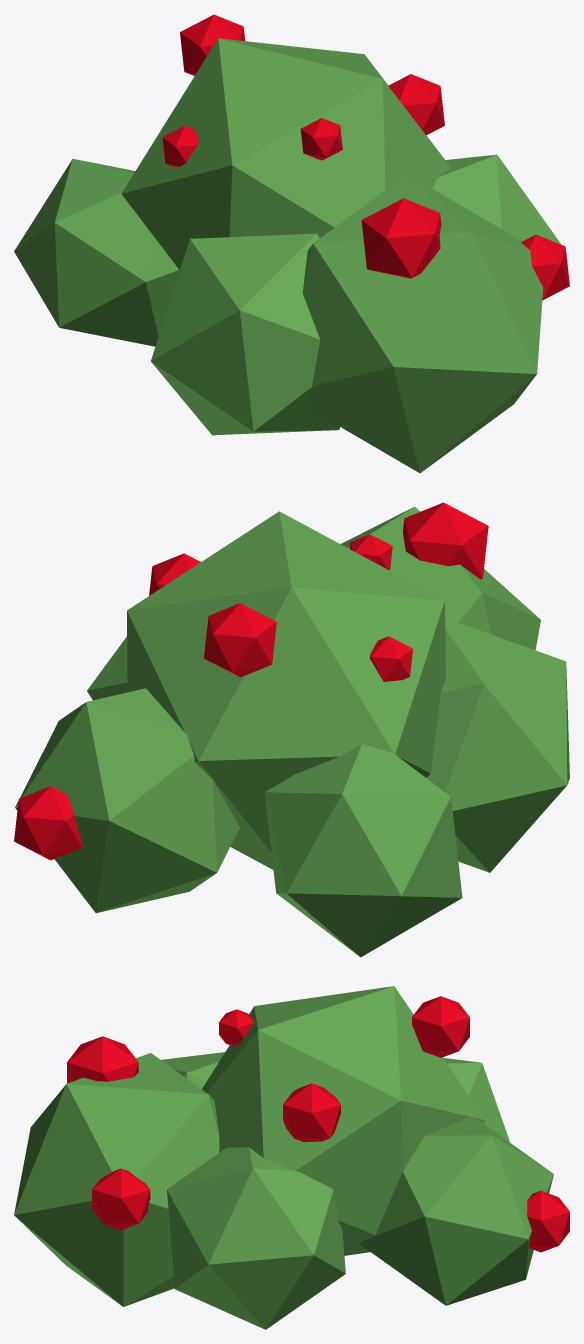
File: Berries.fbx
3 renders of one model, top to bottom at view 1: azimuth 30°, elevation 25°; view 2: azimuth 150°, elevation 25°; view 3: azimuth 270°, elevation 25°, orthographic. The views are drawn at different scales.
Visible parts, largest first — view 1: Icosphere.006; view 2: Icosphere.006; view 3: Icosphere.006.
Part boxes in pixels (x1=…): Icosphere.006: x1=14, y1=14, x2=569, y2=473; Icosphere.006: x1=14, y1=502, x2=569, y2=957; Icosphere.006: x1=14, y1=986, x2=569, y2=1329.
Bounding box in the file's own units: 369 × 269 × 492.
